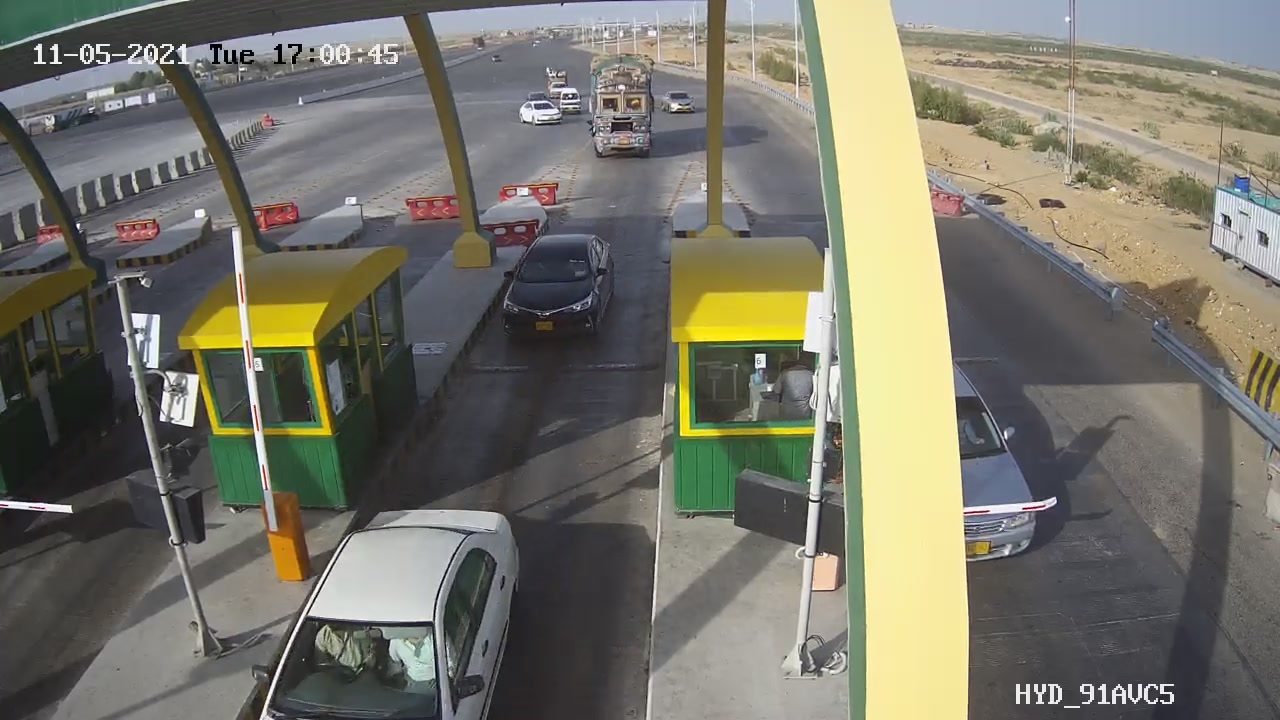F1: (483, 222, 626, 360)
